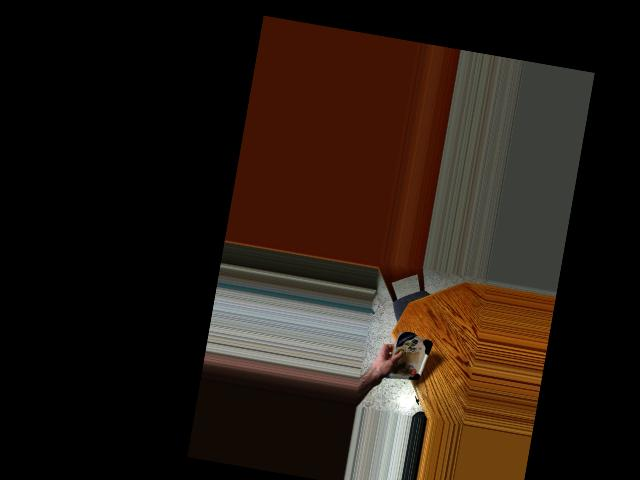cheese: (386, 326, 430, 390)
